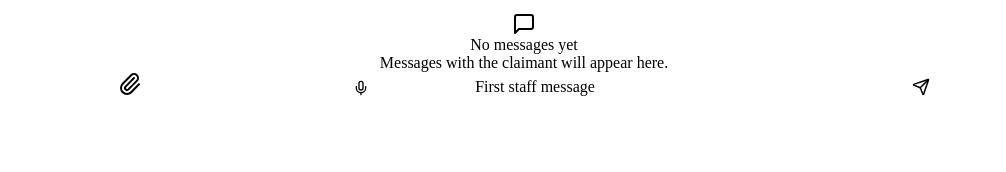
Test: Conversation › explains the not-allowed voice failure without disabling text input
The image size is (1006, 172).
Click the button named "Use voice input" at (361, 88), box left=248, top=80, right=475, bottom=96
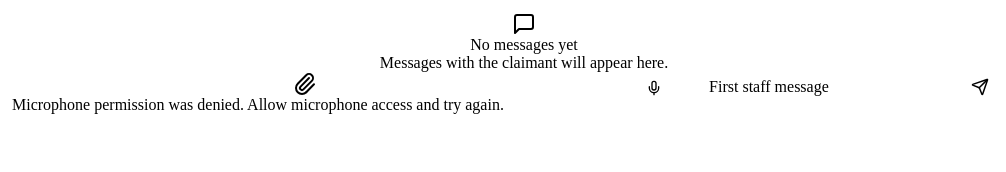
Expected: the text box named "Message to claimant" is enabled, left=709, top=78, right=923, bottom=96
Result: the message reads "Microphone permission was denied. Allow microphone access and try again." at left=12, top=96, right=504, bottom=113
